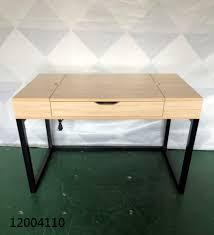desk: (11, 55, 207, 204)
